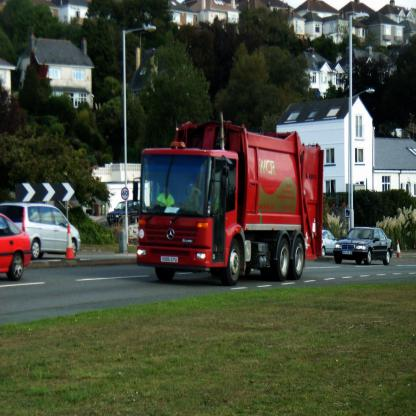Car: (2, 199, 84, 262), (0, 209, 34, 281), (332, 223, 394, 260), (106, 197, 142, 223), (322, 226, 338, 257)
Truck: (131, 117, 323, 291)
